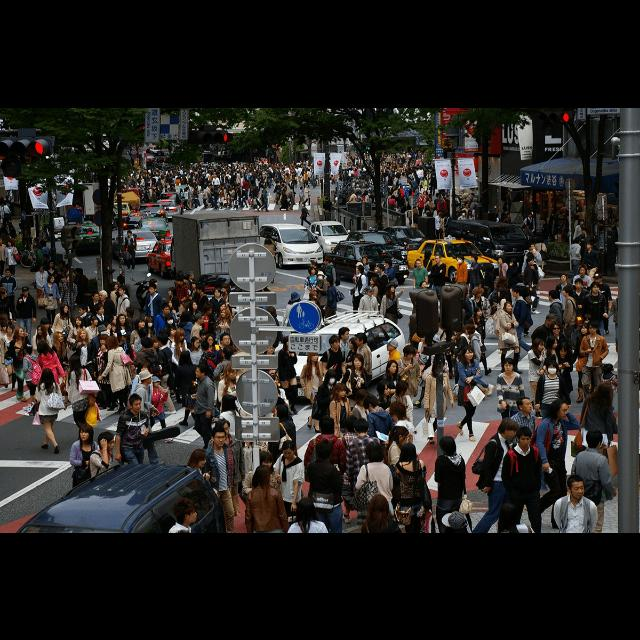head: (174, 498, 198, 524), (370, 494, 390, 520), (567, 474, 585, 500), (500, 418, 520, 440), (298, 498, 316, 520), (316, 440, 334, 460), (586, 430, 604, 450), (596, 382, 614, 402), (516, 427, 532, 449), (448, 514, 466, 532), (255, 464, 273, 482), (318, 417, 336, 435), (389, 402, 406, 421), (100, 432, 116, 452), (211, 427, 227, 447), (395, 426, 411, 446), (363, 394, 379, 414), (552, 400, 568, 420), (400, 444, 418, 461), (439, 436, 456, 454), (516, 396, 532, 414), (193, 448, 207, 468), (216, 418, 230, 438), (260, 451, 274, 471), (282, 440, 296, 460), (368, 440, 382, 460), (354, 418, 371, 434), (356, 389, 369, 407), (68, 354, 82, 370), (196, 362, 210, 378), (274, 404, 290, 418), (378, 380, 392, 396), (130, 394, 142, 412), (434, 356, 446, 374), (80, 424, 92, 441), (227, 364, 239, 381), (396, 379, 408, 396), (326, 369, 338, 385), (329, 334, 341, 350), (404, 344, 416, 360), (107, 335, 119, 349), (140, 360, 152, 374), (335, 383, 347, 397), (356, 332, 368, 346), (463, 345, 475, 359), (547, 361, 559, 375), (534, 338, 546, 352), (339, 326, 351, 339), (433, 361, 445, 374), (116, 330, 128, 342), (220, 333, 232, 345), (166, 324, 178, 336), (157, 334, 169, 346), (141, 372, 153, 384), (222, 346, 234, 358), (203, 302, 213, 316), (176, 328, 186, 342), (354, 354, 364, 368), (504, 358, 514, 372), (559, 342, 569, 356), (40, 316, 50, 329), (0, 320, 10, 332), (38, 340, 48, 352), (44, 368, 54, 380), (79, 304, 89, 316), (98, 324, 108, 336), (100, 334, 110, 346), (124, 306, 134, 318), (161, 304, 171, 316), (145, 316, 155, 328), (142, 337, 152, 349), (181, 350, 191, 362), (285, 335, 295, 347), (464, 324, 476, 334), (463, 323, 473, 335), (388, 360, 398, 372), (388, 339, 398, 351), (603, 364, 615, 374), (588, 322, 598, 334), (581, 323, 591, 335), (500, 276, 510, 288), (512, 286, 522, 298), (594, 272, 604, 284), (574, 278, 584, 290), (548, 289, 558, 301), (16, 327, 26, 338), (150, 337, 160, 348), (151, 377, 161, 388), (309, 351, 319, 362), (116, 274, 125, 286), (207, 334, 216, 346), (24, 344, 34, 354), (54, 332, 64, 342), (60, 303, 70, 313), (74, 316, 84, 326), (95, 304, 105, 314), (148, 284, 158, 294), (136, 318, 146, 328), (220, 308, 230, 318), (191, 338, 201, 348), (349, 338, 359, 348), (368, 261, 378, 271), (474, 306, 484, 316), (497, 288, 507, 298), (504, 302, 514, 312), (562, 286, 572, 296), (200, 328, 208, 340), (550, 336, 558, 348), (119, 285, 128, 295), (187, 270, 196, 280), (167, 314, 176, 324), (0, 286, 8, 297), (79, 328, 87, 339), (22, 286, 30, 296), (6, 324, 14, 334), (90, 315, 98, 325), (99, 290, 107, 300), (118, 314, 126, 324), (150, 278, 158, 288), (168, 287, 176, 297), (196, 284, 204, 294), (190, 300, 198, 310), (326, 276, 334, 286), (356, 261, 364, 271), (366, 287, 374, 297), (475, 288, 483, 298), (518, 274, 526, 284), (526, 257, 536, 265), (528, 242, 538, 250), (323, 256, 332, 264), (37, 325, 44, 335), (464, 289, 471, 299), (47, 274, 55, 282), (76, 268, 84, 276), (92, 292, 100, 300), (176, 277, 184, 285), (222, 284, 230, 292), (214, 288, 222, 296), (219, 302, 227, 310), (292, 294, 300, 302), (308, 266, 316, 274), (310, 260, 318, 268), (356, 265, 364, 273), (370, 276, 378, 284), (377, 264, 385, 272), (384, 258, 392, 266), (526, 252, 534, 260), (618, 289, 626, 297), (388, 282, 394, 292), (416, 258, 422, 268), (436, 253, 442, 263), (580, 265, 586, 275), (5, 268, 12, 276), (49, 275, 56, 283), (165, 300, 172, 308), (33, 244, 39, 252), (39, 264, 45, 272), (48, 260, 54, 268), (66, 274, 72, 282), (318, 272, 324, 280), (362, 256, 368, 264), (426, 250, 432, 258), (459, 256, 465, 264), (472, 254, 478, 262), (488, 264, 494, 272), (498, 258, 506, 264), (586, 242, 594, 248), (562, 274, 568, 282), (576, 238, 582, 245), (112, 282, 118, 288), (192, 282, 198, 288), (511, 258, 517, 264), (536, 237, 542, 243), (266, 234, 272, 240), (128, 230, 132, 236), (2, 201, 8, 205), (0, 238, 4, 244), (8, 240, 12, 246), (302, 202, 306, 206)
person: (342, 414, 388, 526), (579, 379, 619, 503), (114, 391, 152, 513), (533, 358, 575, 464), (383, 400, 421, 516), (508, 392, 544, 514), (209, 415, 247, 527), (128, 366, 166, 474), (454, 341, 492, 447), (495, 355, 531, 465), (64, 352, 102, 452), (29, 366, 69, 456), (86, 427, 122, 527), (212, 343, 248, 441), (97, 333, 139, 415), (298, 344, 332, 442), (188, 359, 220, 461), (217, 360, 253, 450), (31, 338, 68, 424), (68, 420, 100, 518), (269, 400, 303, 490), (576, 318, 610, 408), (125, 359, 158, 451), (141, 370, 177, 450), (351, 392, 383, 482), (422, 355, 454, 445), (449, 315, 481, 403), (325, 381, 359, 461), (314, 367, 346, 451), (390, 376, 418, 472), (422, 350, 452, 438), (506, 284, 540, 361), (361, 394, 394, 472), (464, 322, 496, 401), (319, 331, 347, 421), (352, 328, 380, 418), (176, 349, 207, 429), (278, 330, 306, 416), (494, 298, 524, 378), (395, 344, 421, 436), (574, 322, 600, 412), (92, 331, 118, 415), (540, 333, 564, 422), (7, 324, 33, 402), (378, 282, 408, 348), (347, 352, 371, 434), (604, 286, 632, 356), (213, 332, 241, 401), (155, 330, 179, 410), (113, 328, 139, 400), (544, 288, 570, 360), (47, 329, 69, 413), (526, 336, 548, 420), (30, 326, 56, 396), (72, 326, 98, 396), (133, 334, 159, 404), (589, 268, 615, 338), (469, 304, 493, 378), (554, 336, 576, 416), (139, 282, 167, 344), (13, 285, 39, 351), (382, 336, 404, 414), (36, 272, 64, 332), (213, 304, 239, 368), (488, 274, 514, 338), (92, 324, 115, 396), (380, 358, 404, 426), (18, 342, 40, 416), (373, 374, 395, 446), (521, 242, 545, 308), (554, 272, 578, 338), (558, 284, 580, 356), (36, 315, 58, 385), (282, 290, 308, 348), (84, 313, 106, 381), (94, 286, 118, 348), (172, 326, 190, 408), (51, 303, 74, 367), (471, 284, 492, 354), (568, 274, 590, 340), (198, 332, 220, 396), (324, 276, 346, 340), (320, 254, 342, 318), (162, 298, 188, 352), (144, 276, 168, 334), (358, 284, 382, 342), (598, 360, 622, 418), (512, 270, 534, 332), (153, 304, 180, 354), (429, 253, 448, 323), (90, 303, 112, 363), (465, 250, 485, 316), (522, 251, 544, 311), (74, 303, 96, 362), (342, 332, 360, 403), (149, 333, 167, 403), (334, 324, 352, 392), (68, 314, 88, 374), (572, 262, 592, 322), (163, 284, 183, 342), (138, 314, 162, 362), (2, 322, 18, 393), (42, 274, 62, 330), (170, 274, 190, 330), (166, 322, 180, 402), (524, 256, 542, 318), (206, 286, 226, 340), (374, 260, 392, 320), (211, 302, 233, 351), (349, 259, 366, 321), (60, 272, 78, 330), (198, 300, 218, 352), (382, 258, 401, 312), (162, 310, 178, 374), (130, 315, 150, 365), (219, 281, 239, 331), (1, 266, 18, 324), (494, 286, 508, 356), (86, 290, 104, 344), (116, 284, 134, 338), (530, 235, 552, 279), (115, 274, 132, 330), (308, 258, 326, 310), (412, 256, 430, 308), (507, 255, 523, 313), (193, 284, 213, 330), (481, 262, 501, 308), (582, 238, 602, 284), (184, 268, 202, 318), (186, 335, 204, 385), (302, 266, 320, 316), (187, 298, 205, 346), (316, 270, 332, 324), (353, 265, 369, 319), (262, 234, 278, 288), (462, 284, 476, 344), (107, 279, 121, 337), (121, 304, 137, 354), (496, 256, 514, 300), (32, 264, 49, 310), (450, 252, 468, 294), (365, 272, 381, 318), (3, 238, 21, 278), (44, 260, 62, 300), (72, 266, 90, 306), (570, 233, 584, 284), (122, 228, 138, 272), (189, 280, 203, 326), (198, 327, 212, 373), (114, 312, 128, 356), (0, 286, 12, 336), (30, 243, 44, 284), (422, 248, 434, 292), (367, 260, 378, 306), (298, 202, 316, 230), (361, 254, 372, 294), (1, 321, 8, 383), (1, 200, 13, 228), (0, 236, 6, 277)
